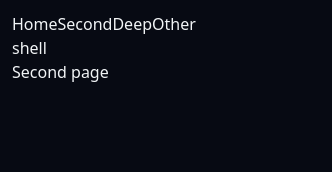
RoutedPage › does not impose a direction on a lateral move between same-depth routes
This screenshot has width=332, height=172.
Expected: the heading "Second page" is shown, [12,61,109,83]
Click the link "Other" at {"x": 174, "y": 24}, box [152,13,196,35]
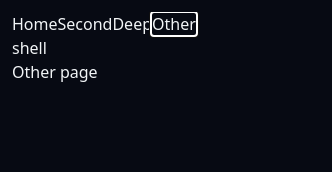
Result: the heading "Other page" is shown at [12,61,98,83]
